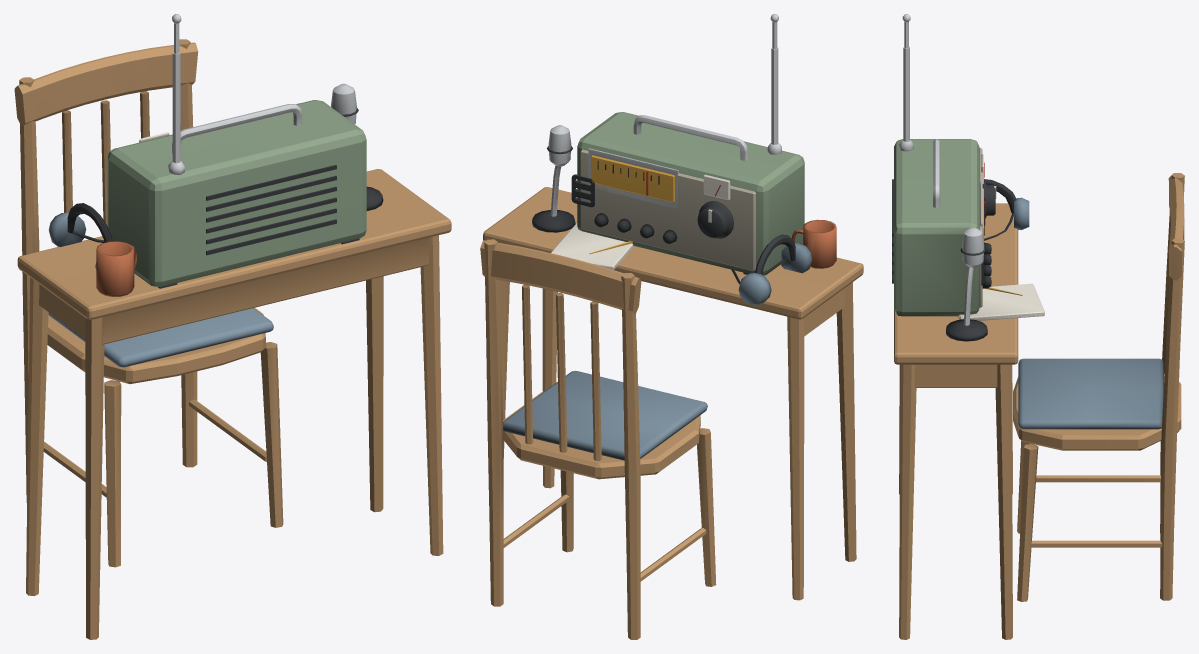
File: shortwaveRadio.glb
3 renders of one model, left to right at view 1: azimuth 30°, elevation 25°; view 2: azimuth 150°, elevation 25°; view 3: azimuth 270°, elevation 25°, orthographic. The views are drawn at different scales.
Parts seen in each view (by area): view 1: body; view 2: body, dial; view 3: body.
Boxes of the visible parts, left/top/right/bottom form: body: left=14, top=39, right=451, bottom=639; body: left=480, top=47, right=863, bottom=639; dial: left=697, top=201, right=733, bottom=238; body: left=892, top=46, right=1184, bottom=639.
Bounding box in the file's own units: 0.84 × 1.33 × 0.6823.
